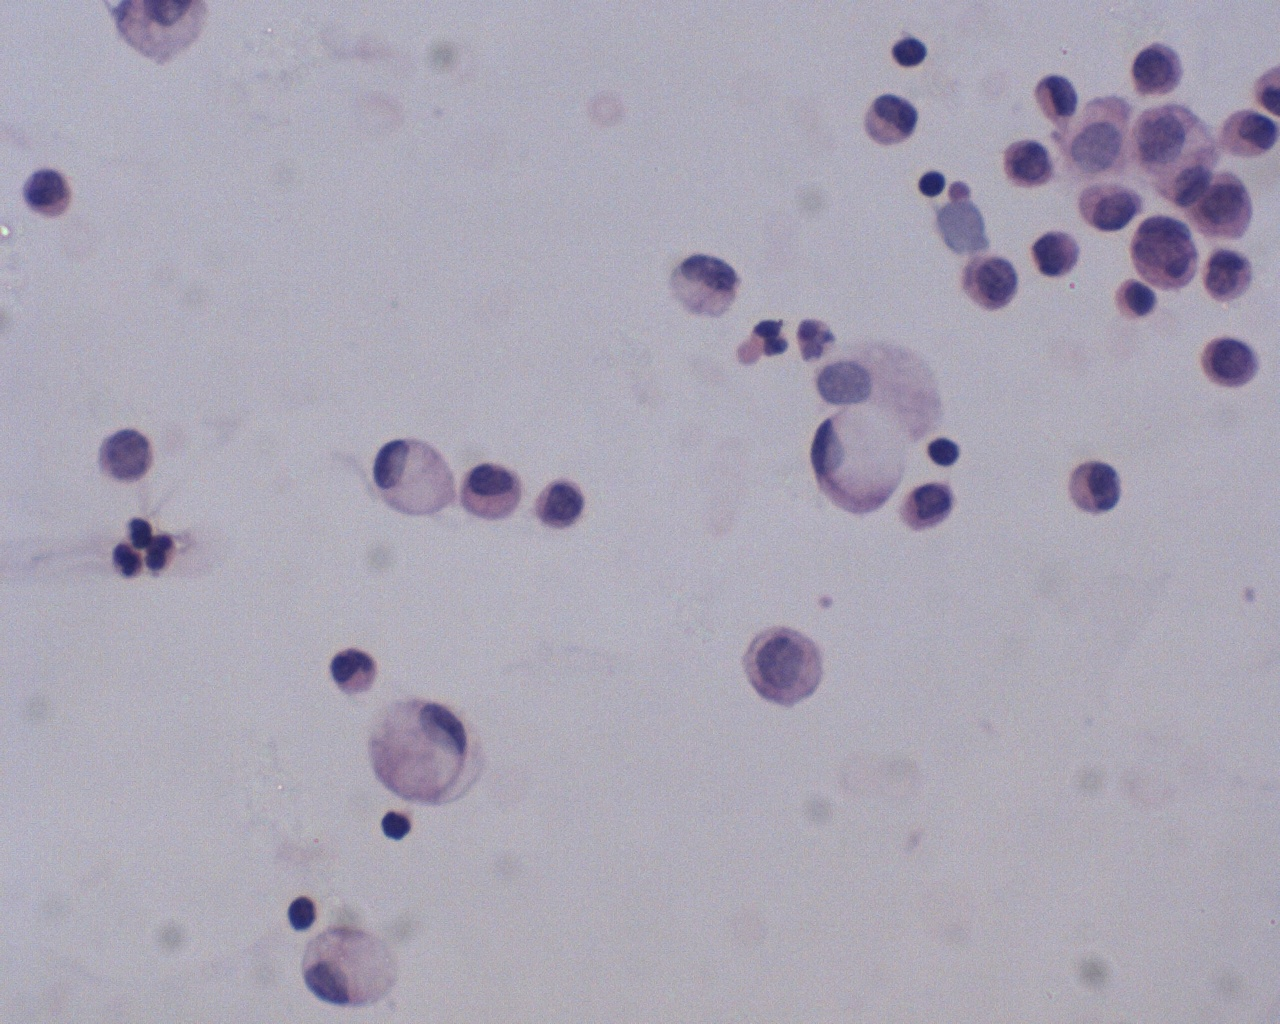ab: (1125, 208, 1211, 303), (15, 160, 78, 229), (963, 248, 1024, 317), (1198, 330, 1258, 395), (527, 473, 586, 533), (1000, 135, 1058, 193), (1128, 39, 1187, 97)
histo: (355, 693, 478, 808), (810, 398, 910, 522), (300, 922, 406, 1016), (371, 432, 459, 523)
lymph: (285, 895, 323, 936), (914, 168, 948, 203)
meso: (461, 455, 528, 530)
neutro: (327, 641, 385, 705)
